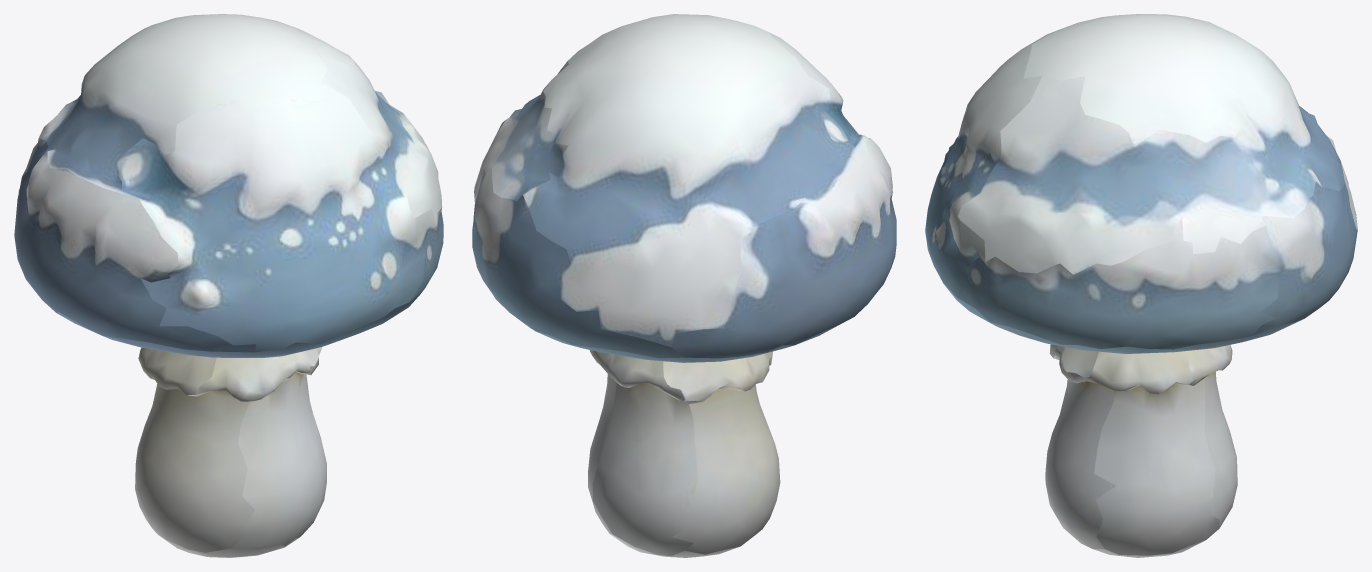
File: frostcap.glb
The picture shows the model from 3 angles, left to right: view 1: azimuth 30°, elevation 25°; view 2: azimuth 150°, elevation 25°; view 3: azimuth 270°, elevation 25°; orthographic projection.
Parts seen in each view (by area): view 1: item_frostcap; view 2: item_frostcap; view 3: item_frostcap.
Part boxes in pixels (box(x1,y1,x2,y2)): item_frostcap: box(14, 14, 443, 557); item_frostcap: box(472, 14, 896, 557); item_frostcap: box(925, 14, 1357, 557).
Bounding box in the file's own units: 0.7773 × 1 × 0.7846.
Materials: 1 (1 with a texture image).
